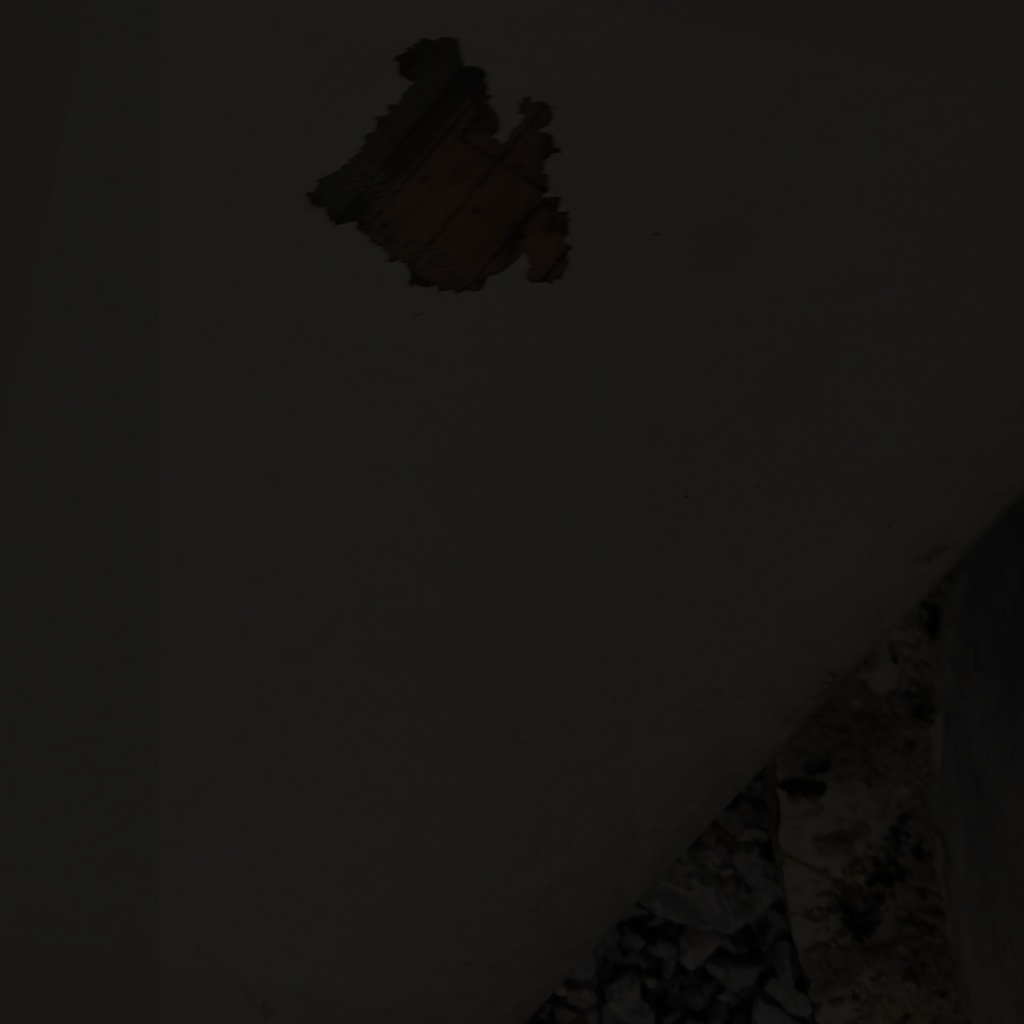surface_injure: (303, 20, 587, 310)
